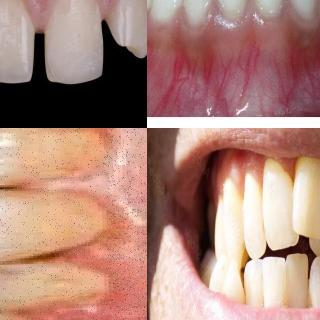Gum Swelling: (53, 128, 147, 320)
maligned: (285, 153, 320, 239), (259, 255, 291, 309), (285, 252, 314, 308), (241, 256, 268, 306), (311, 172, 320, 255), (152, 0, 178, 28), (307, 252, 320, 306)
